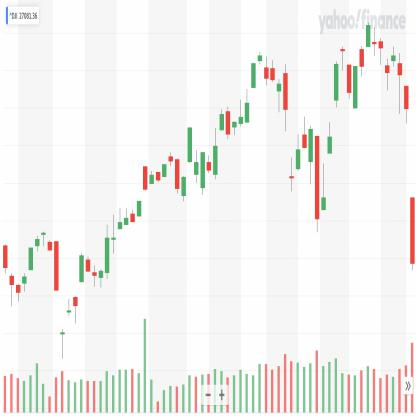Bearish Abandoned Baby: (333, 42, 352, 115), (250, 47, 270, 98)
Bullish Kicker: (358, 19, 372, 80)
